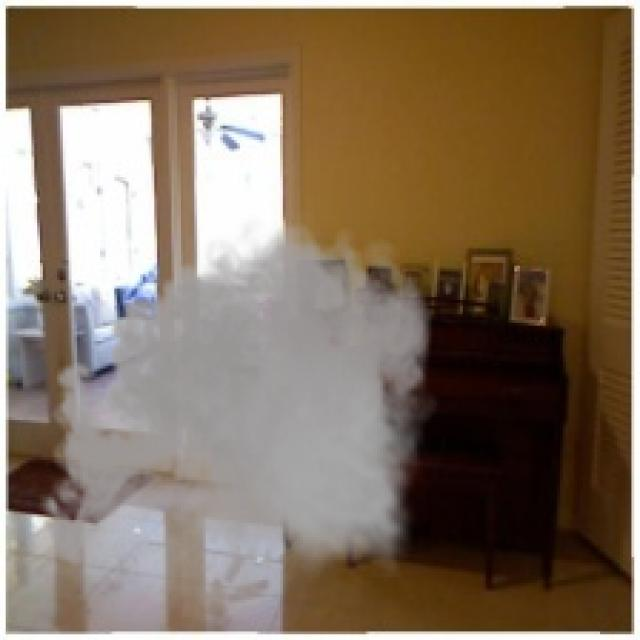smoke: (28, 209, 446, 634)
